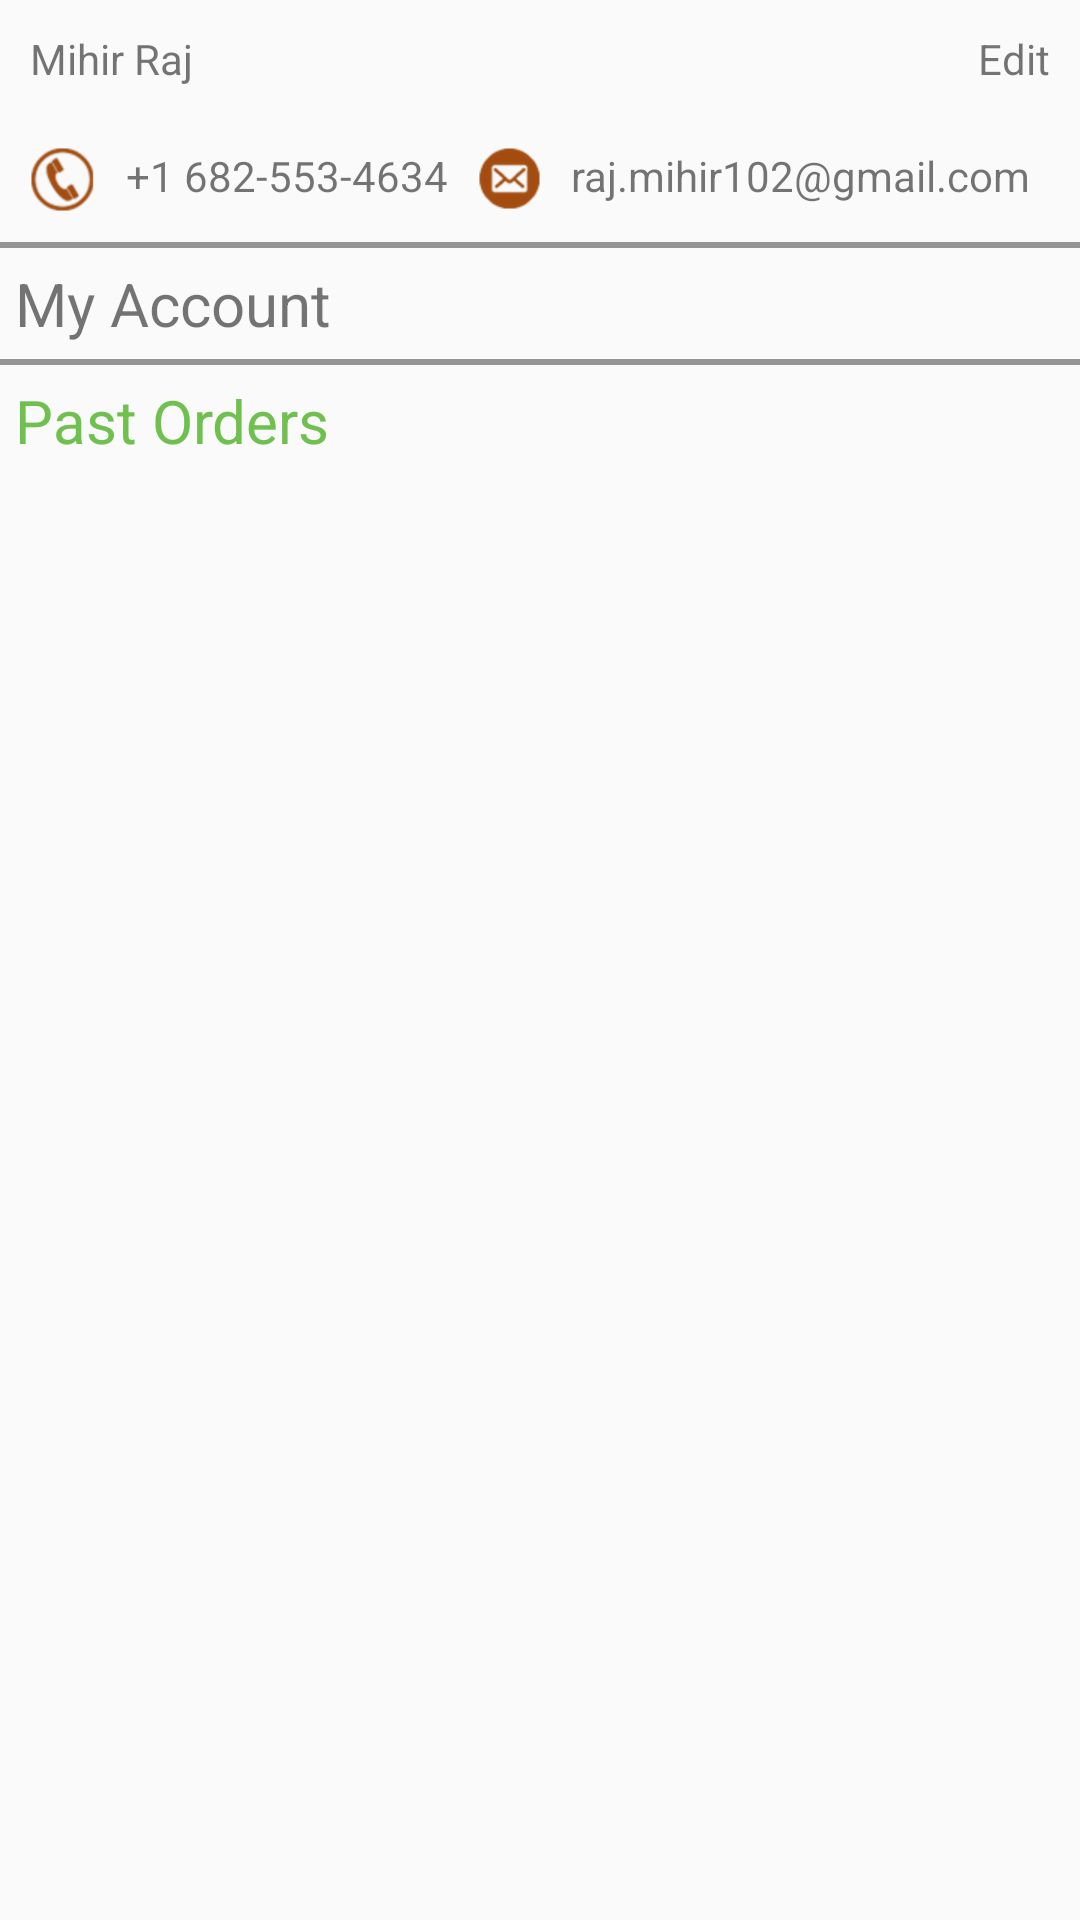

Locate icon controls on the screen. Image size 1080x1920, boxes as rect(x1, y1, x2, y2).
email: rect(479, 148, 540, 209)
phone: rect(31, 148, 94, 211)
